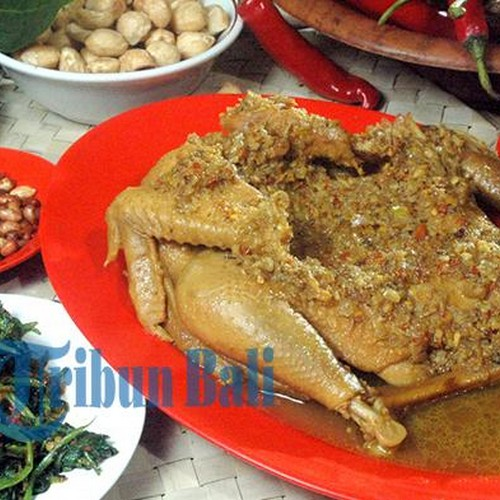ayam betutu: (101, 108, 500, 341)
